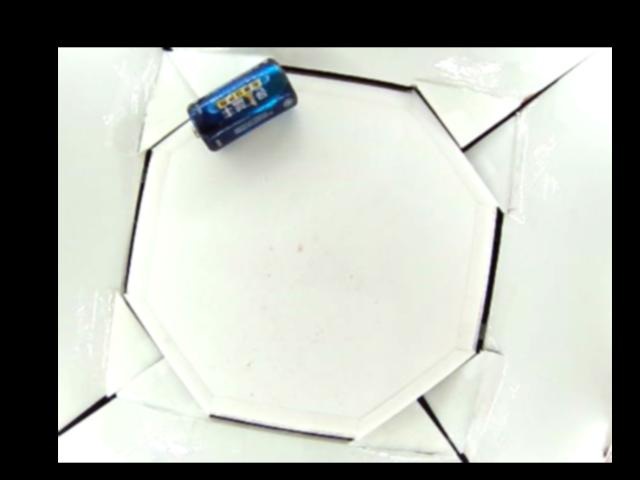Battery: (187, 59, 299, 149)
